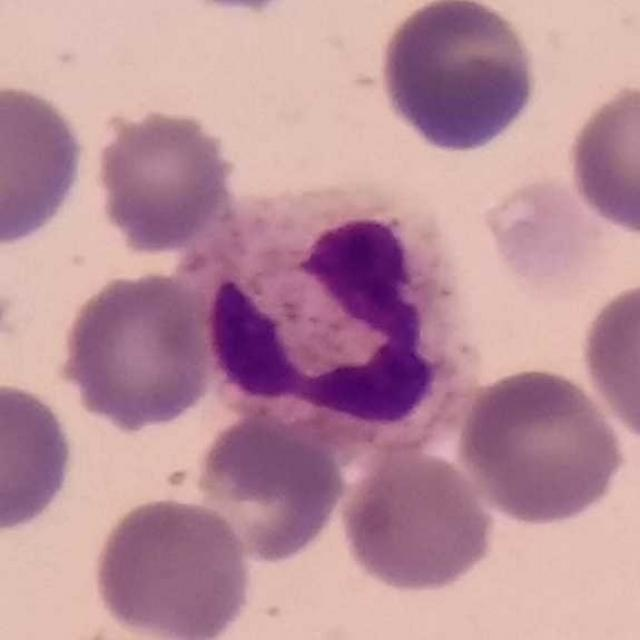Neutrophil: (178, 184, 477, 445)
RBC: (454, 363, 629, 529), (55, 265, 217, 434), (375, 0, 542, 159), (335, 444, 500, 597), (190, 409, 348, 566), (88, 493, 255, 640), (90, 104, 239, 252), (0, 79, 90, 253), (482, 176, 610, 294), (0, 377, 78, 538), (563, 78, 640, 239), (576, 273, 640, 448), (181, 0, 298, 19)
